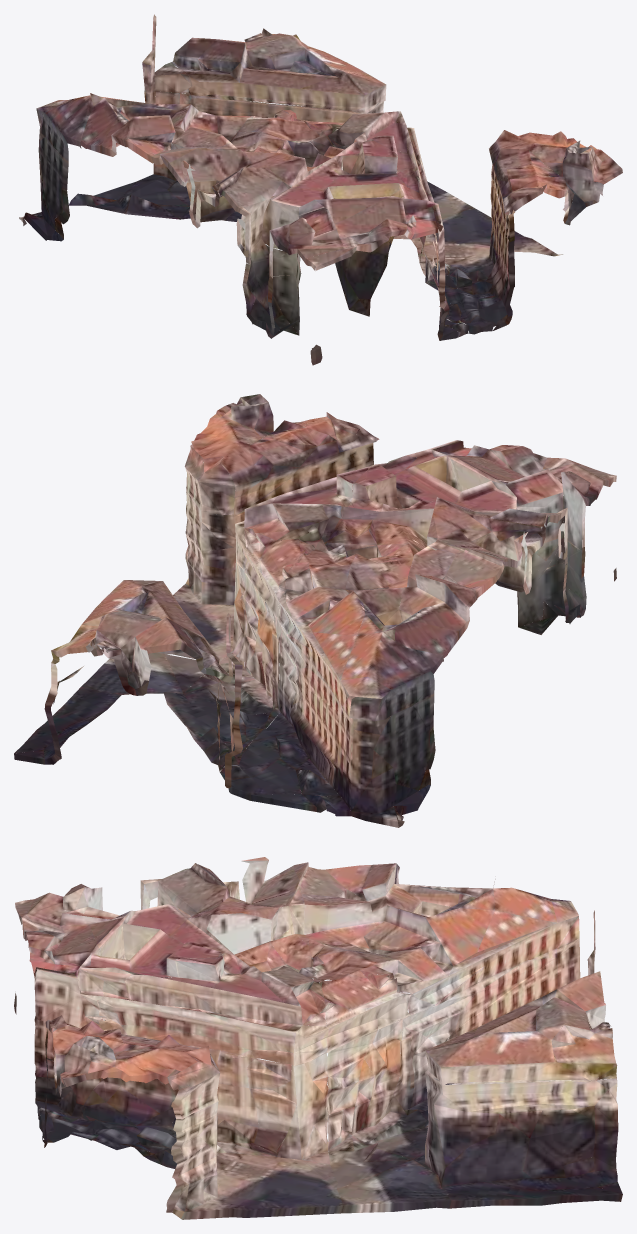
3 renders of one model, top to bottom at view 1: azimuth 30°, elevation 25°; view 2: azimuth 150°, elevation 25°; view 3: azimuth 270°, elevation 25°, orthographic. The views are drawn at different scales.
Parts seen in each view (by area): view 1: Mesh_0; view 2: Mesh_0; view 3: Mesh_0.
Boxes of the visible parts, x1,y1,x2,y2 form: Mesh_0: (19, 14, 622, 365); Mesh_0: (14, 394, 616, 827); Mesh_0: (14, 857, 622, 1219).
Bounding box in the file's own units: 67.76 × 28.7 × 82.76.
2 materials, 2 textured.
